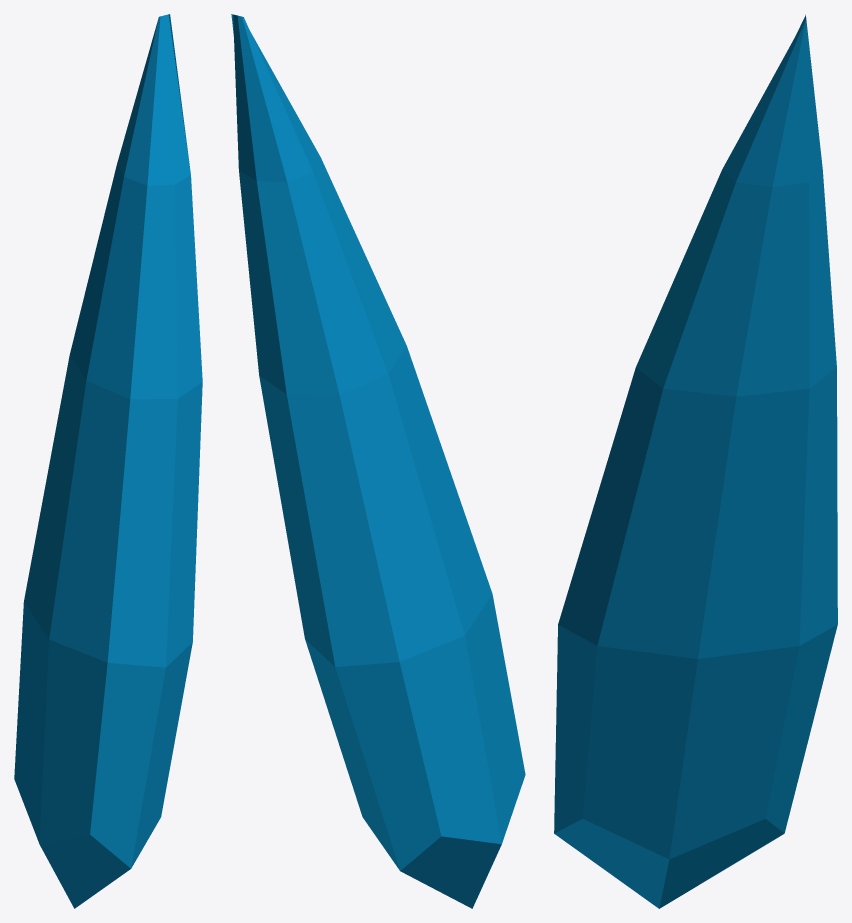
The model's file is low_poly_water_drop.glb.
The picture shows the model from 3 angles, left to right: view 1: azimuth 30°, elevation 25°; view 2: azimuth 150°, elevation 25°; view 3: azimuth 270°, elevation 25°; orthographic projection. The views are drawn at different scales.
Visible parts, largest first — view 1: Object_2; view 2: Object_2; view 3: Object_2.
Part boxes in pixels (box(x1,y1,x2,y2)): Object_2: box(14, 14, 202, 908); Object_2: box(231, 14, 525, 908); Object_2: box(554, 14, 837, 908).
Bounding box in the file's own units: 0.5236 × 2.17 × 0.5696.
